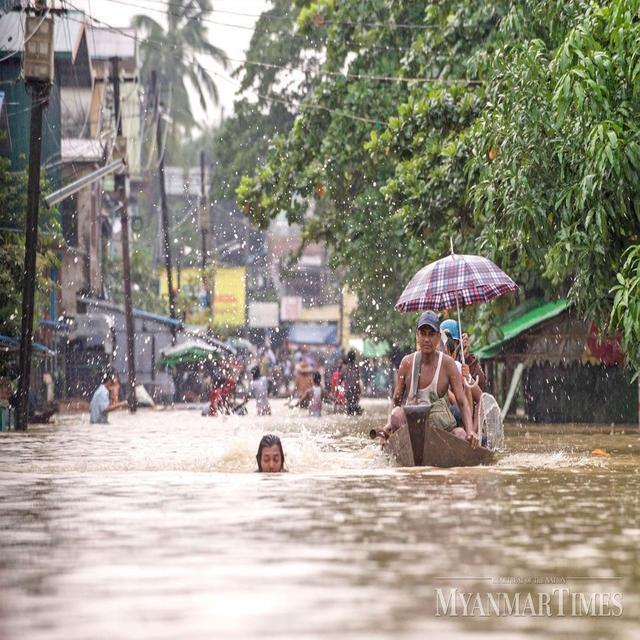Person-RiskLevel3: (360, 303, 499, 446), (241, 418, 309, 492)
